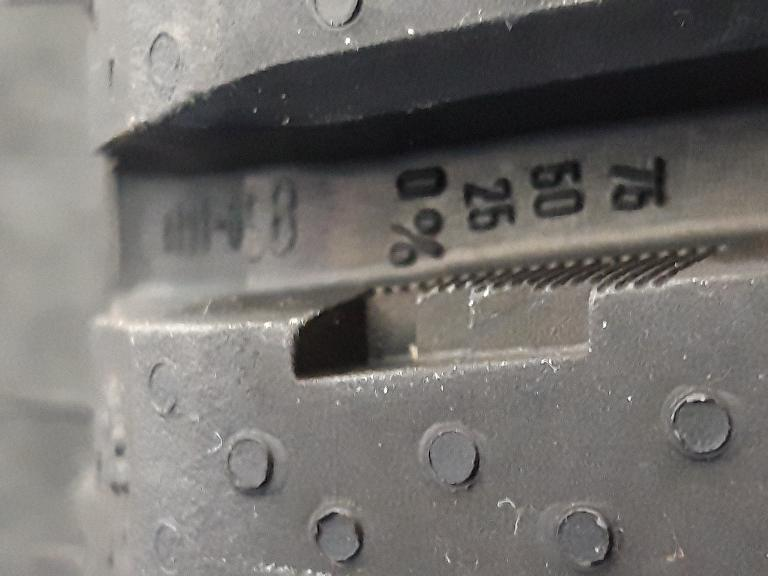temoin:100: (286, 234, 735, 386)
